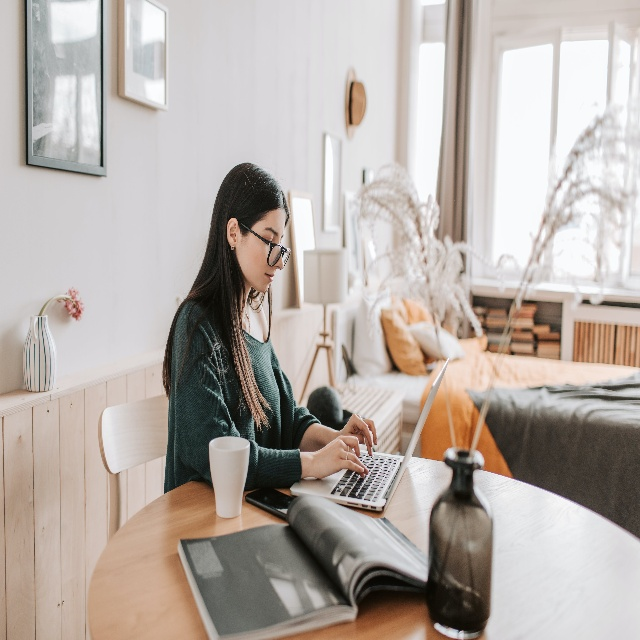Gafas: (239, 220, 291, 271)
Sin_guantes: (313, 434, 369, 480), (341, 411, 377, 458)
